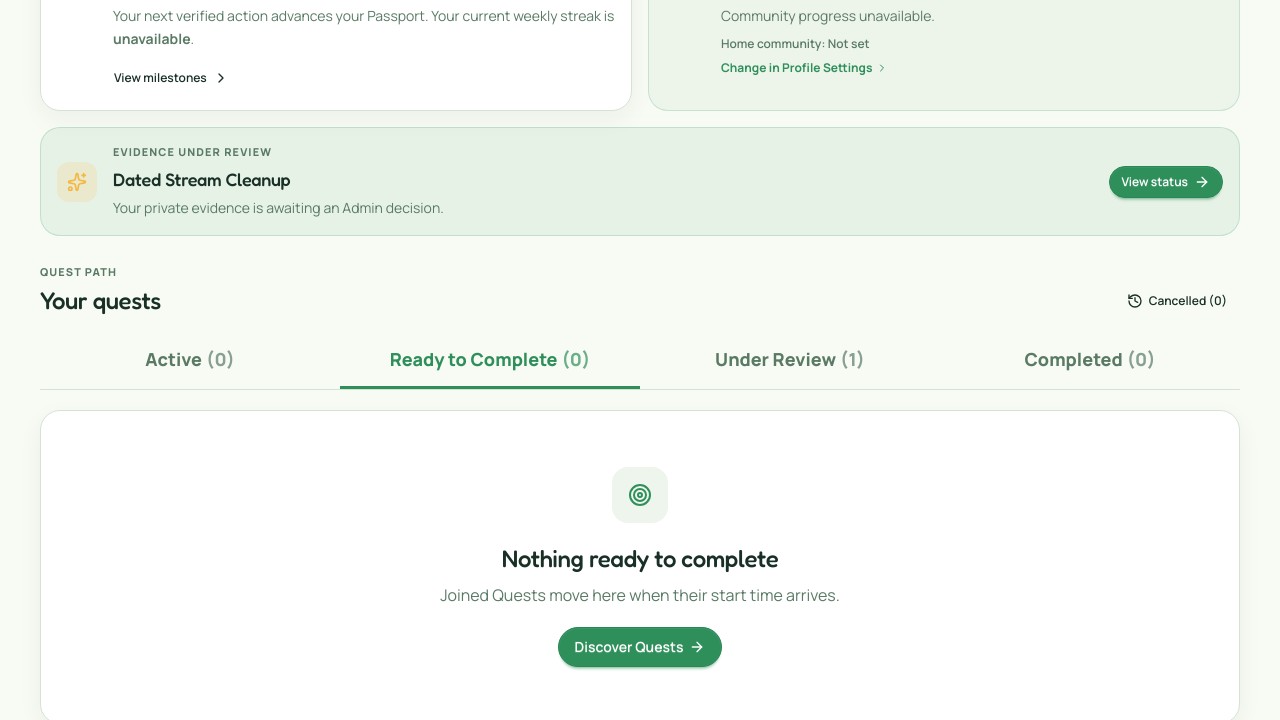
Test: MyQuestsPage › uses the latest claim when a rejected attempt is resubmitted for review
(page scrolled)
Expected: the heading "Nothing ready to complete" is shown, [502,544,778,573]
Click the button "Under Review(1)": (790, 361) [640,333,940,389]
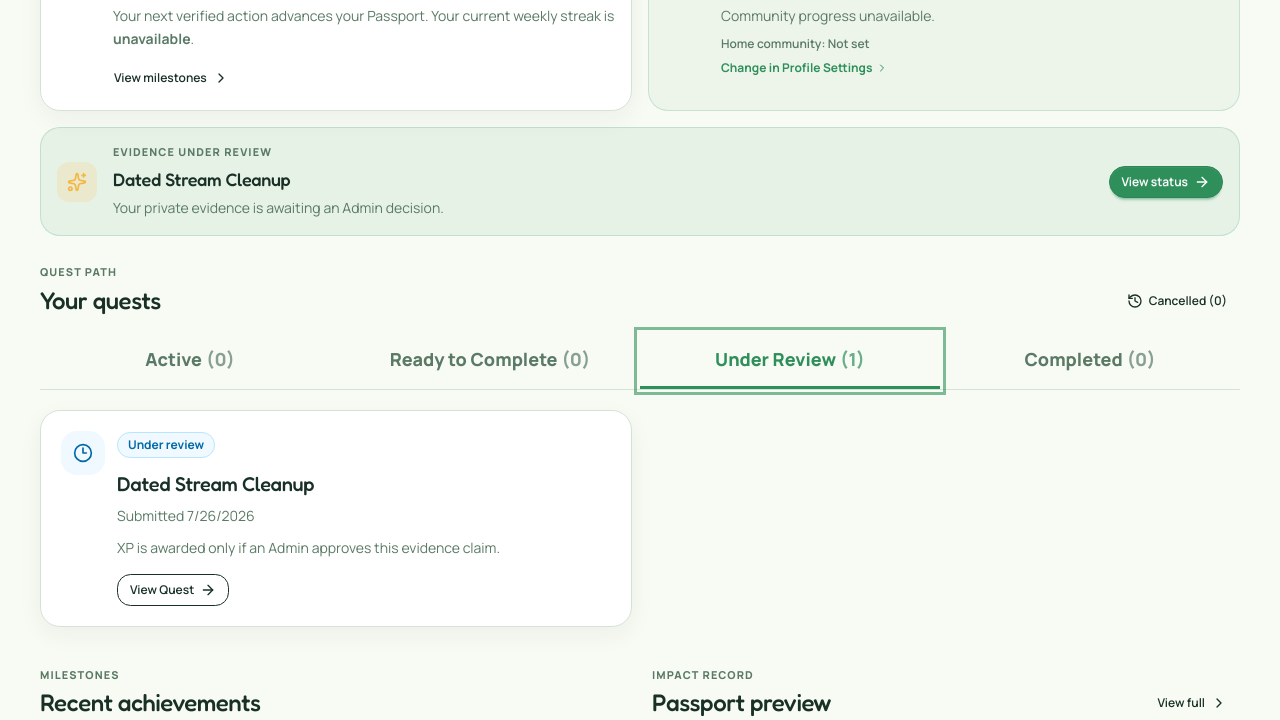
Expected: the heading "Dated Stream Cleanup" below "Evidence under review" is shown, [113,168,290,190]
Expected: the text "Under review" is shown, [117,432,215,458]
